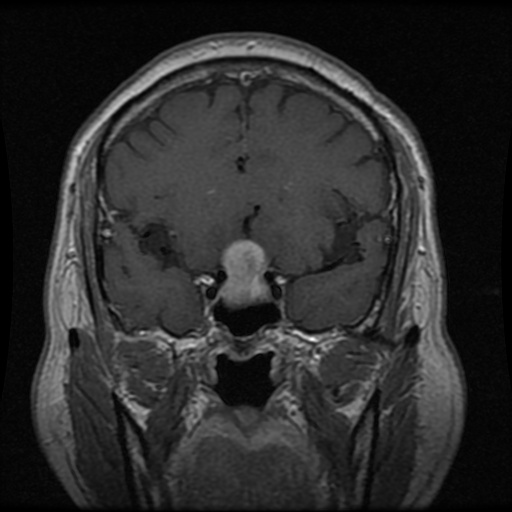pituitary: (219, 239, 267, 306)
